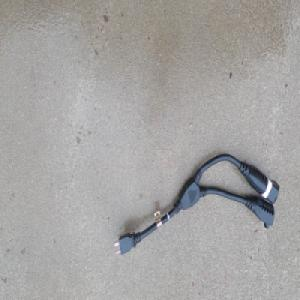Wire: (111, 151, 279, 257)
